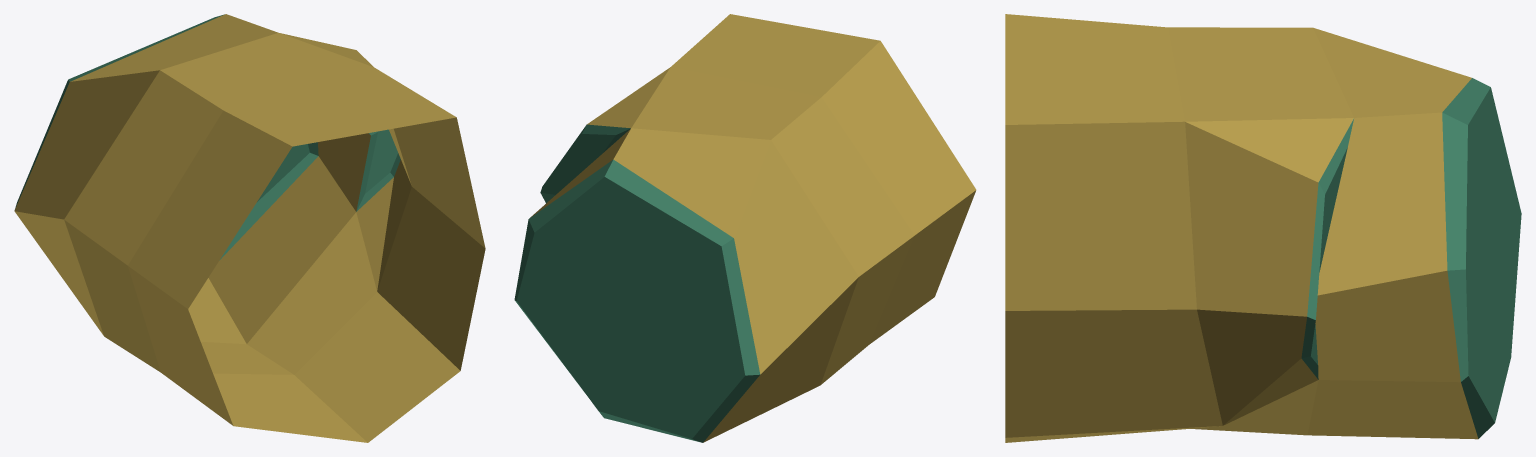
The model's file is Cliff_3.fbx.
3 views of the same model, side by side, from view 1: azimuth 30°, elevation 25°; view 2: azimuth 150°, elevation 25°; view 3: azimuth 270°, elevation 25° (orthographic). The views are drawn at different scales.
Parts seen in each view (by area): view 1: Cliff_3.001; view 2: Cliff_3.001; view 3: Cliff_3.001.
Boxes of the visible parts, box(x1,y1,x2,y2) form: Cliff_3.001: box(14, 14, 485, 442); Cliff_3.001: box(514, 14, 976, 442); Cliff_3.001: box(1005, 14, 1521, 442).
Bounding box in the file's own units: 7.34 × 6.31 × 7.69.
